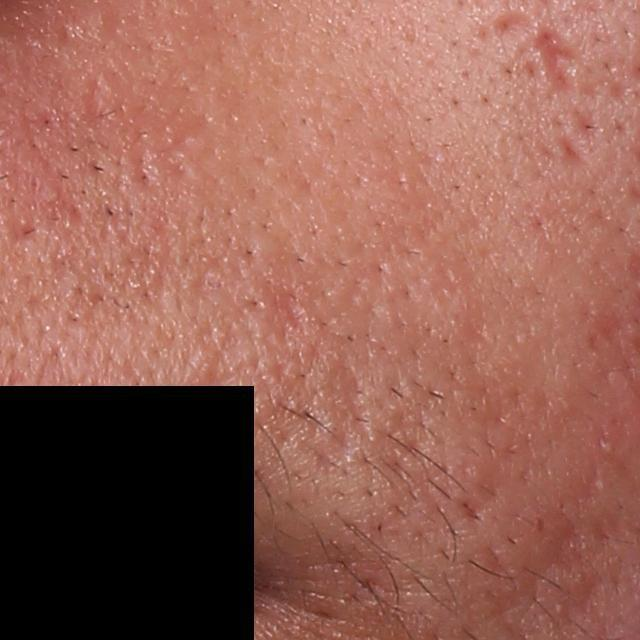atrophic_scar: (315, 355, 375, 468), (534, 28, 578, 97), (261, 276, 310, 337), (554, 126, 595, 180), (492, 10, 542, 45)
